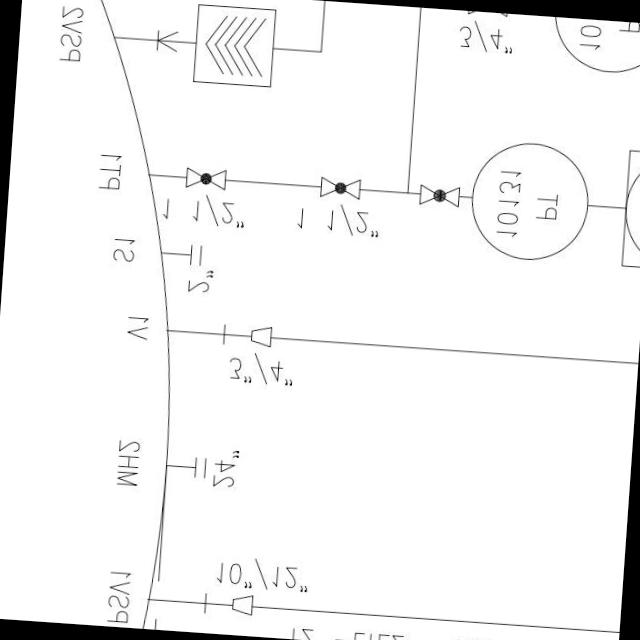BV2: (312, 168, 368, 205), (178, 161, 235, 192), (414, 178, 466, 210)
SP: (242, 320, 278, 350), (225, 590, 259, 618)
